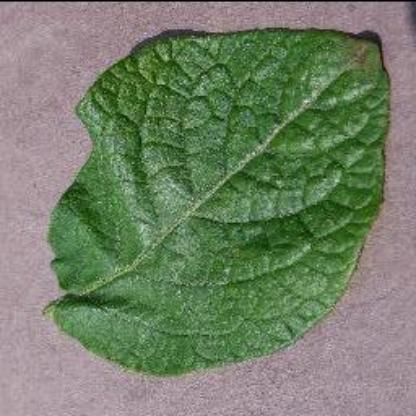Healthy-plant: (29, 3, 395, 377)
